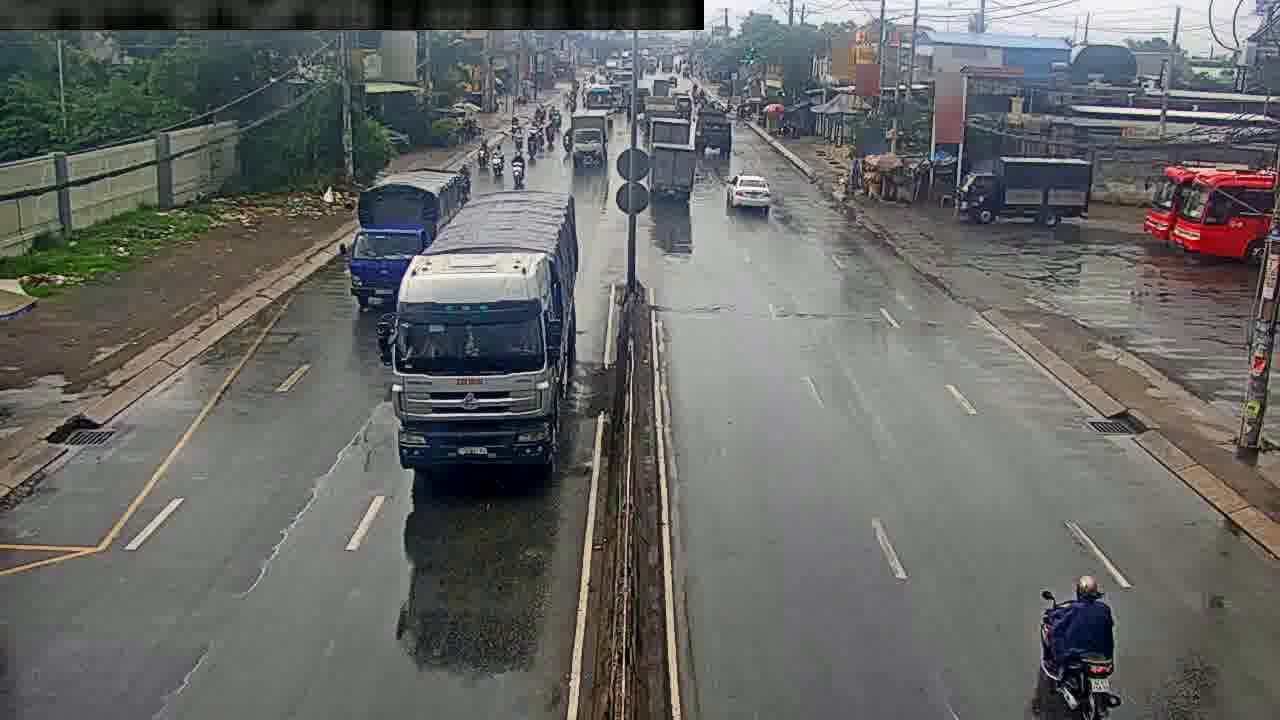8: (395, 190, 584, 481), (351, 170, 472, 304), (650, 140, 698, 195), (572, 107, 612, 163)
container: (733, 169, 772, 216)
motorbike: (1048, 567, 1119, 717), (511, 151, 526, 184), (492, 144, 504, 177), (476, 141, 489, 166)
